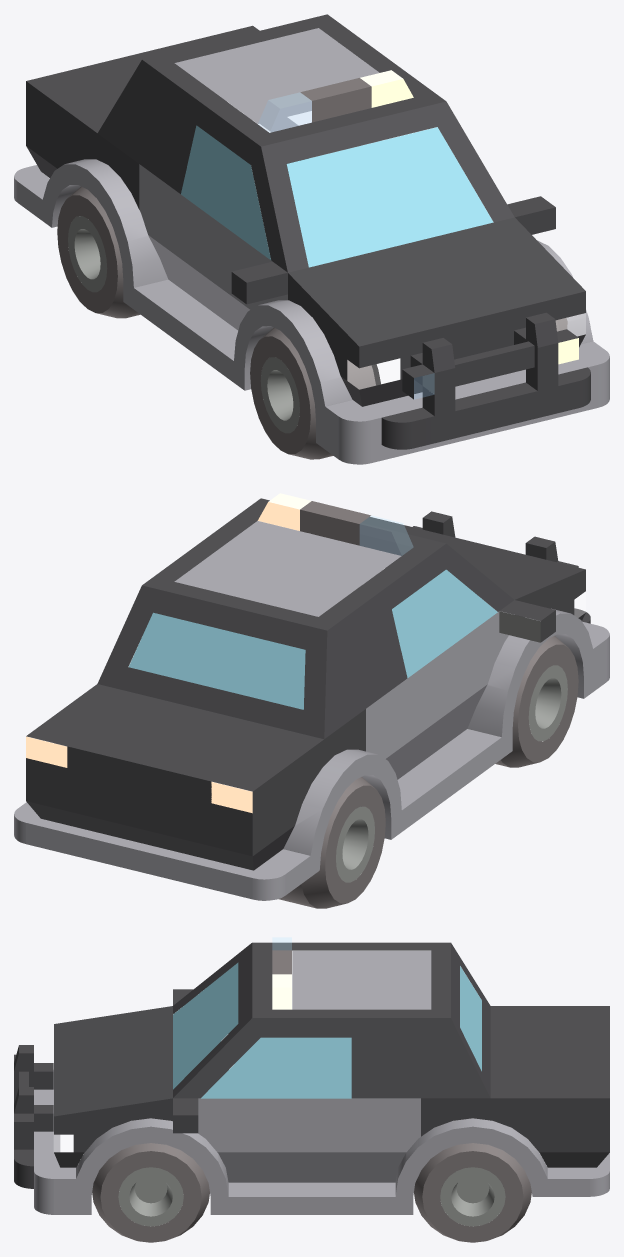
Rendered from police-car.glb.
3 renders of one model, top to bottom at view 1: azimuth 30°, elevation 25°; view 2: azimuth 150°, elevation 25°; view 3: azimuth 270°, elevation 25°, orthographic. The views are drawn at different scales.
Visible parts, largest first — view 1: body, grill, wheel_frontRight, wheel_backRight; view 2: body, wheel_backRight, wheel_frontRight, grill; view 3: body, wheel_backLeft, wheel_frontLeft, grill.
Part boxes in pixels (left/top/right/bottom): body: left=14, top=14, right=609, bottom=464; grill: left=381, top=312, right=590, bottom=449; wheel_frontRight: left=250, top=327, right=375, bottom=459; wheel_backRight: left=57, top=186, right=140, bottom=318; body: left=14, top=493, right=609, bottom=900; wheel_backRight: left=259, top=777, right=385, bottom=908; wheel_frontRight: left=495, top=635, right=578, bottom=767; grill: left=413, top=511, right=590, bottom=623; body: left=34, top=937, right=609, bottom=1214; wheel_backLeft: left=414, top=1143, right=531, bottom=1242; wheel_frontLeft: left=92, top=1143, right=209, bottom=1242; grill: left=14, top=1045, right=53, bottom=1188.
Size of the model in its own units: 1.5 by 1.3 by 3.
Materials: 4 (4 with a texture image).
